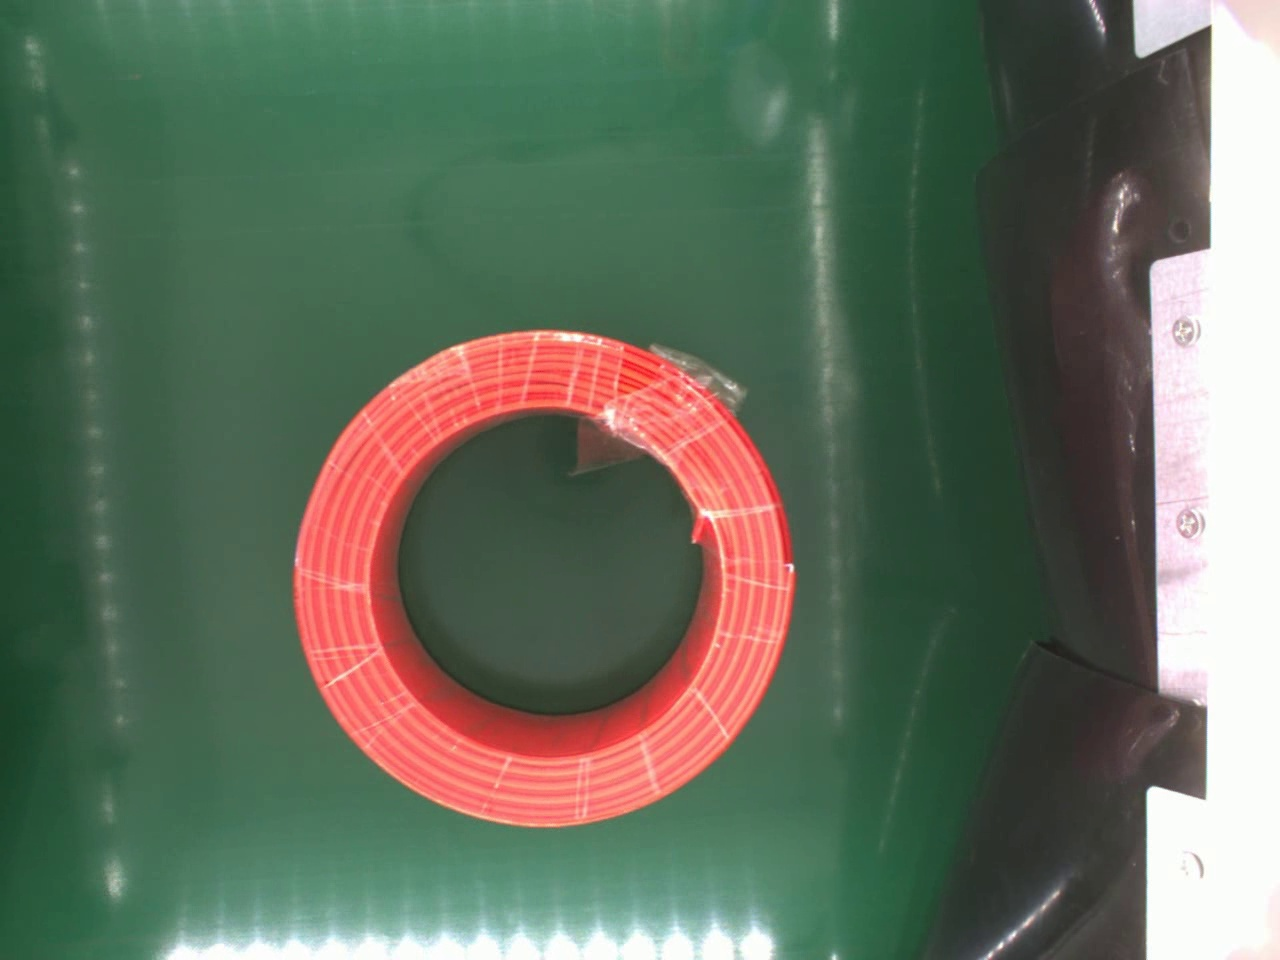red: (287, 324, 801, 830)
